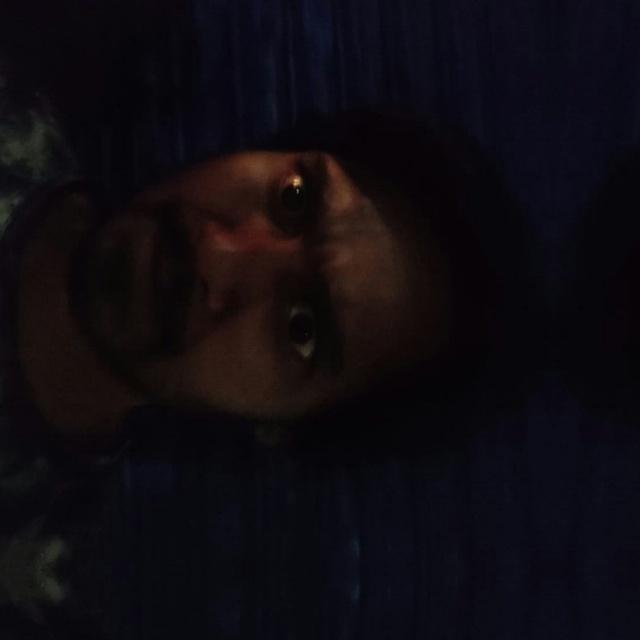angry: (40, 130, 537, 442)
